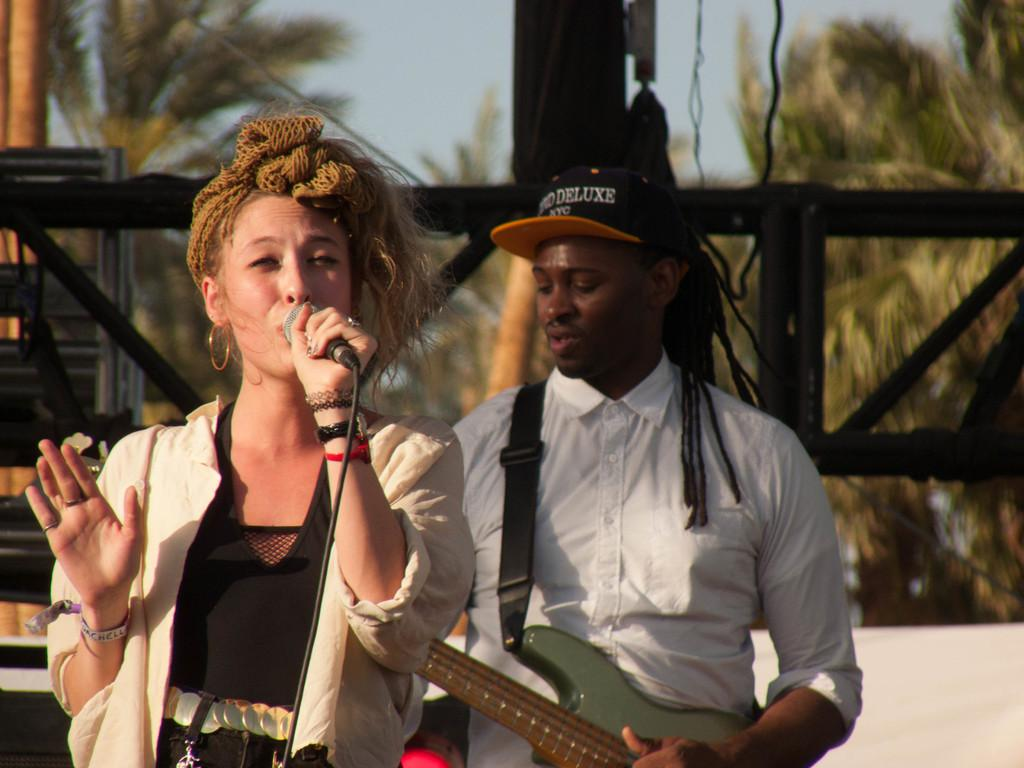Hat: (488, 166, 688, 261)
